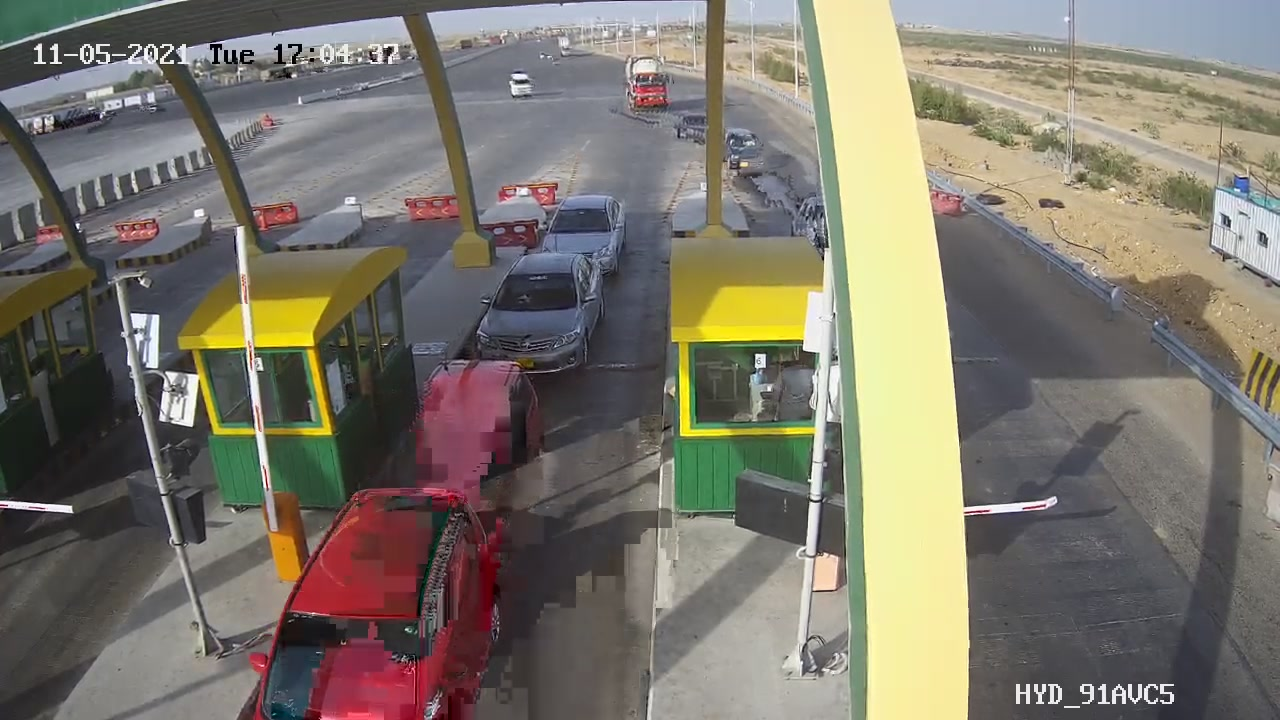F1: (464, 239, 614, 383)
